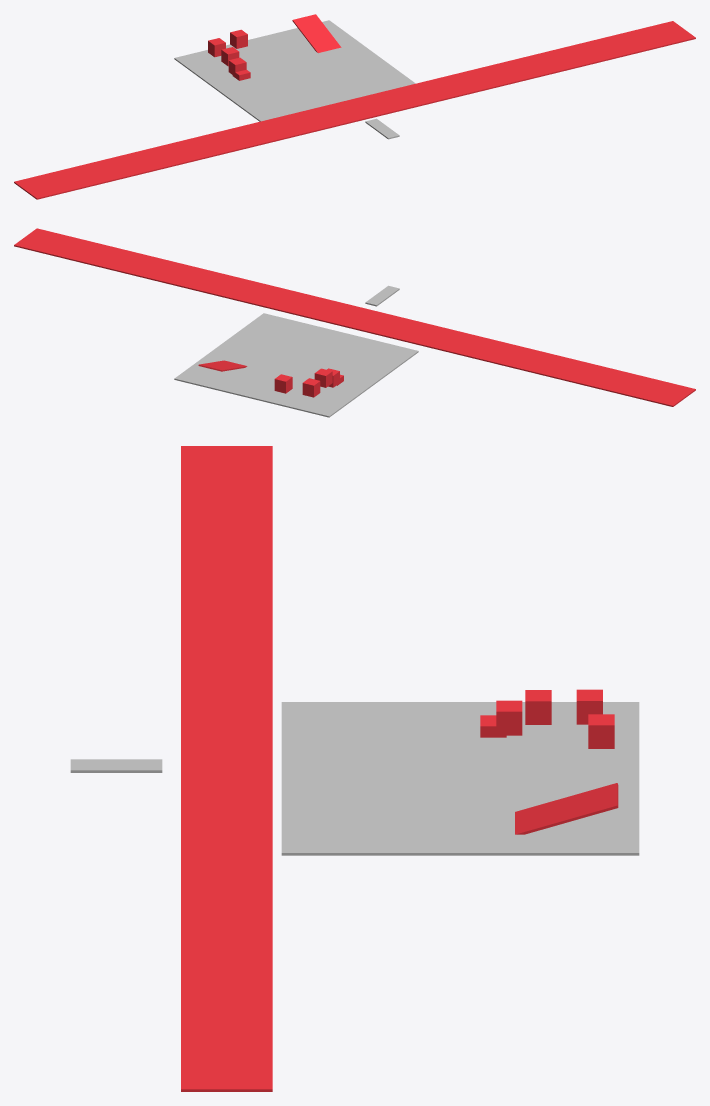
Rendered from hoppinworldtest1.gltf.
3 views of the same model, one above another, from view 1: azimuth 30°, elevation 25°; view 2: azimuth 150°, elevation 25°; view 3: azimuth 270°, elevation 25° (orthographic). The views are drawn at different scales.
Parts seen in each view (by area): view 1: Cube.001, Cube.002, Cube.008, Cube; view 2: Cube.001, Cube.002, Cube.008, Cube, Cube.006, Cube.007; view 3: Cube.001, Cube.002, Cube.008, Cube, Cube.004.
Boxes of the visible parts, x1,y1,x2,y2 form: Cube.001: [14, 21, 695, 199]; Cube.002: [174, 20, 415, 121]; Cube.008: [292, 14, 341, 52]; Cube: [365, 118, 399, 139]; Cube.001: [14, 228, 695, 406]; Cube.002: [174, 313, 418, 417]; Cube.008: [198, 360, 247, 371]; Cube: [365, 285, 399, 306]; Cube.006: [302, 378, 320, 397]; Cube.007: [274, 374, 292, 393]; Cube.001: [181, 446, 272, 1091]; Cube.002: [281, 702, 639, 855]; Cube.008: [515, 783, 618, 834]; Cube: [70, 759, 162, 772]; Cube.004: [496, 700, 522, 735].
Bounding box in the file's own units: 116 × 4.1 × 43.28.
